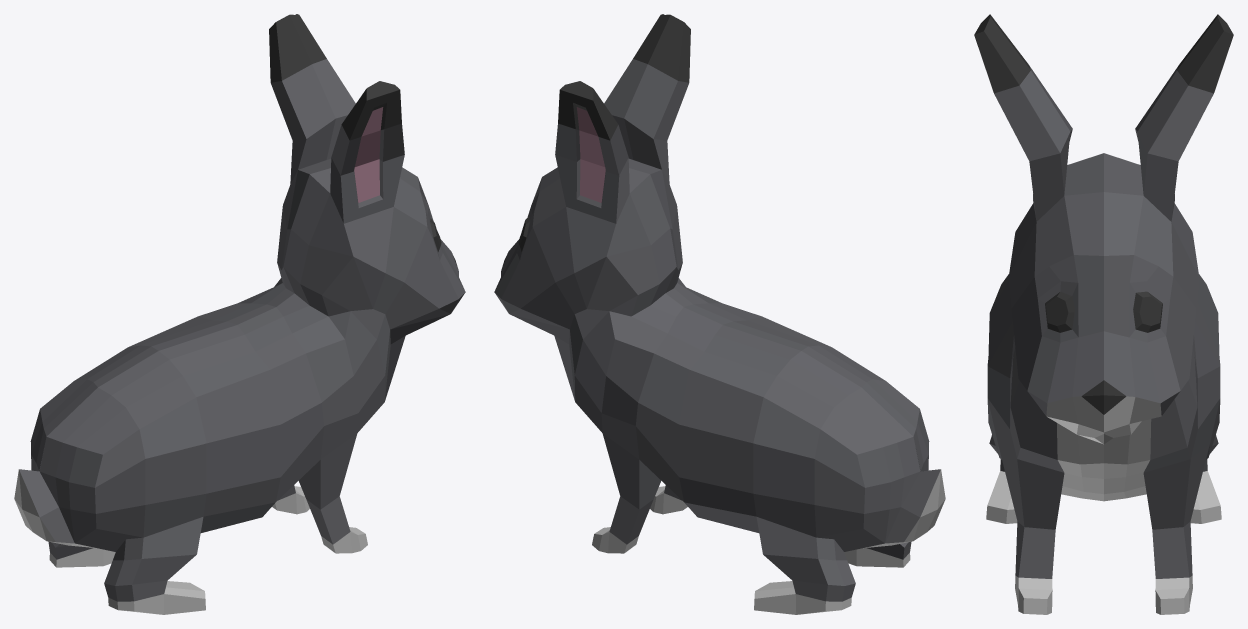
The model's file is hare.glb.
The picture shows the model from 3 angles, left to right: view 1: azimuth 30°, elevation 25°; view 2: azimuth 150°, elevation 25°; view 3: azimuth 270°, elevation 25°; orthographic projection. The views are drawn at different scales.
Parts seen in each view (by area): view 1: Hare; view 2: Hare; view 3: Hare.
Boxes of the visible parts, x1,y1,x2,y2 form: Hare: [14, 14, 465, 614]; Hare: [494, 14, 945, 614]; Hare: [974, 14, 1233, 614].
Size of the model in its own units: 0.4253 by 0.4518 by 0.1743.
